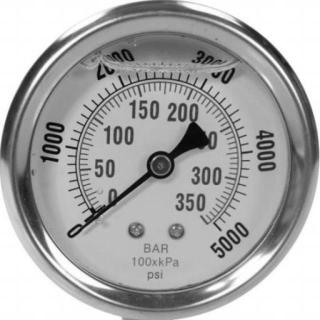gauge: (0, 0, 320, 320), (70, 205, 102, 242), (145, 150, 176, 180), (202, 208, 228, 242), (74, 223, 86, 237)
